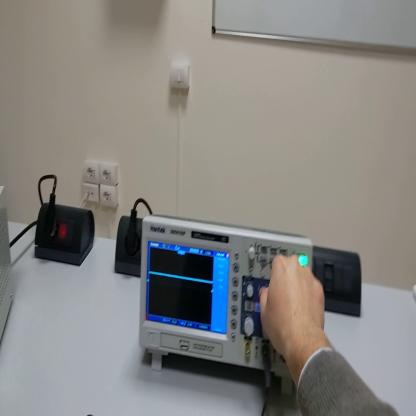hand: (260, 251, 327, 360)
oscilloscope: (137, 217, 312, 399)
power supply: (3, 186, 14, 359)
socket: (34, 203, 95, 270), (116, 214, 142, 277)
